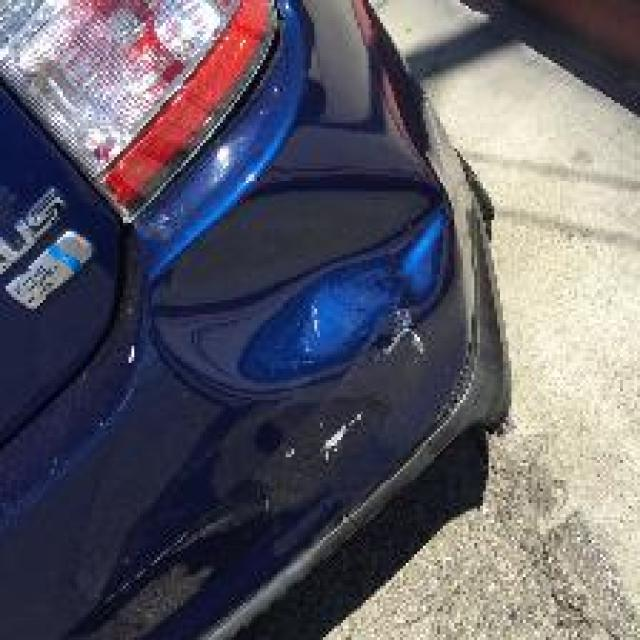bumper_dent_moderate: (151, 177, 454, 394)
